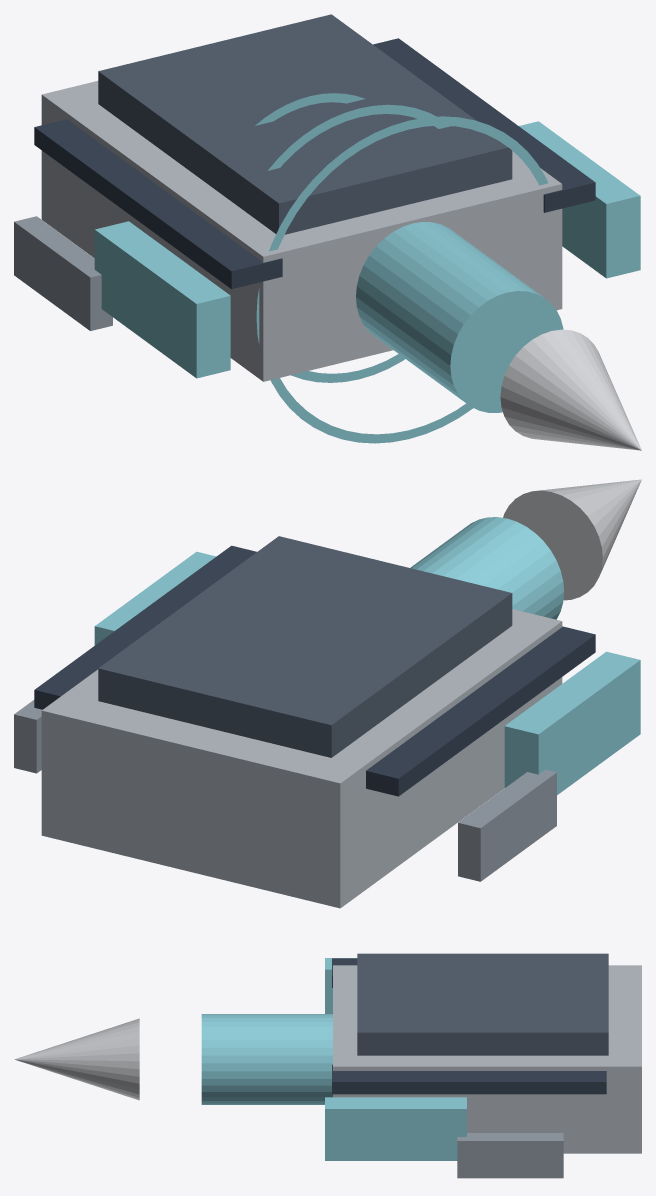
Rendered from arc-2.glb.
3 views of the same model, one above another, from view 1: azimuth 30°, elevation 25°; view 2: azimuth 150°, elevation 25°; view 3: azimuth 270°, elevation 25° (orthographic). The views are drawn at different scales.
Parts seen in each view (by area): view 1: part001, part000, part002, part005, part003, part004, part008, part006, part007, part013, part012, part011; view 2: part000, part001, part005, part004, part002, part003, part006, part007, part008, part009; view 3: part001, part000, part002, part008, part007, part003, part009, part005.
Part boxes in pixels (box(x1,y1,x2,y2)): part001: box(98, 14, 512, 234); part000: box(41, 81, 562, 381); part002: box(356, 222, 563, 412); part005: box(94, 221, 230, 378); part003: box(500, 329, 641, 450); part004: box(34, 119, 282, 289); part008: box(519, 121, 640, 278); part006: box(14, 216, 112, 330); part007: box(373, 38, 595, 212); part013: box(256, 116, 547, 443); part012: box(267, 104, 450, 382); part011: box(255, 93, 364, 125); part000: box(41, 609, 562, 908); part001: box(98, 536, 512, 757); part005: box(504, 651, 640, 794); part004: box(366, 626, 595, 796); part002: box(410, 517, 563, 619); part003: box(503, 479, 641, 600); part006: box(458, 769, 556, 881); part007: box(34, 545, 256, 709); part008: box(94, 551, 216, 645); part009: box(14, 700, 42, 773); part001: box(357, 953, 608, 1055); part000: box(333, 965, 641, 1153); part002: box(201, 1014, 332, 1104); part008: box(325, 1097, 466, 1160); part007: box(332, 1064, 606, 1094); part003: box(14, 1018, 139, 1100); part009: box(457, 1133, 563, 1178); part005: box(325, 958, 356, 1013).
Size of the model in its own units: 1.64 by 1.07 by 2.75.
